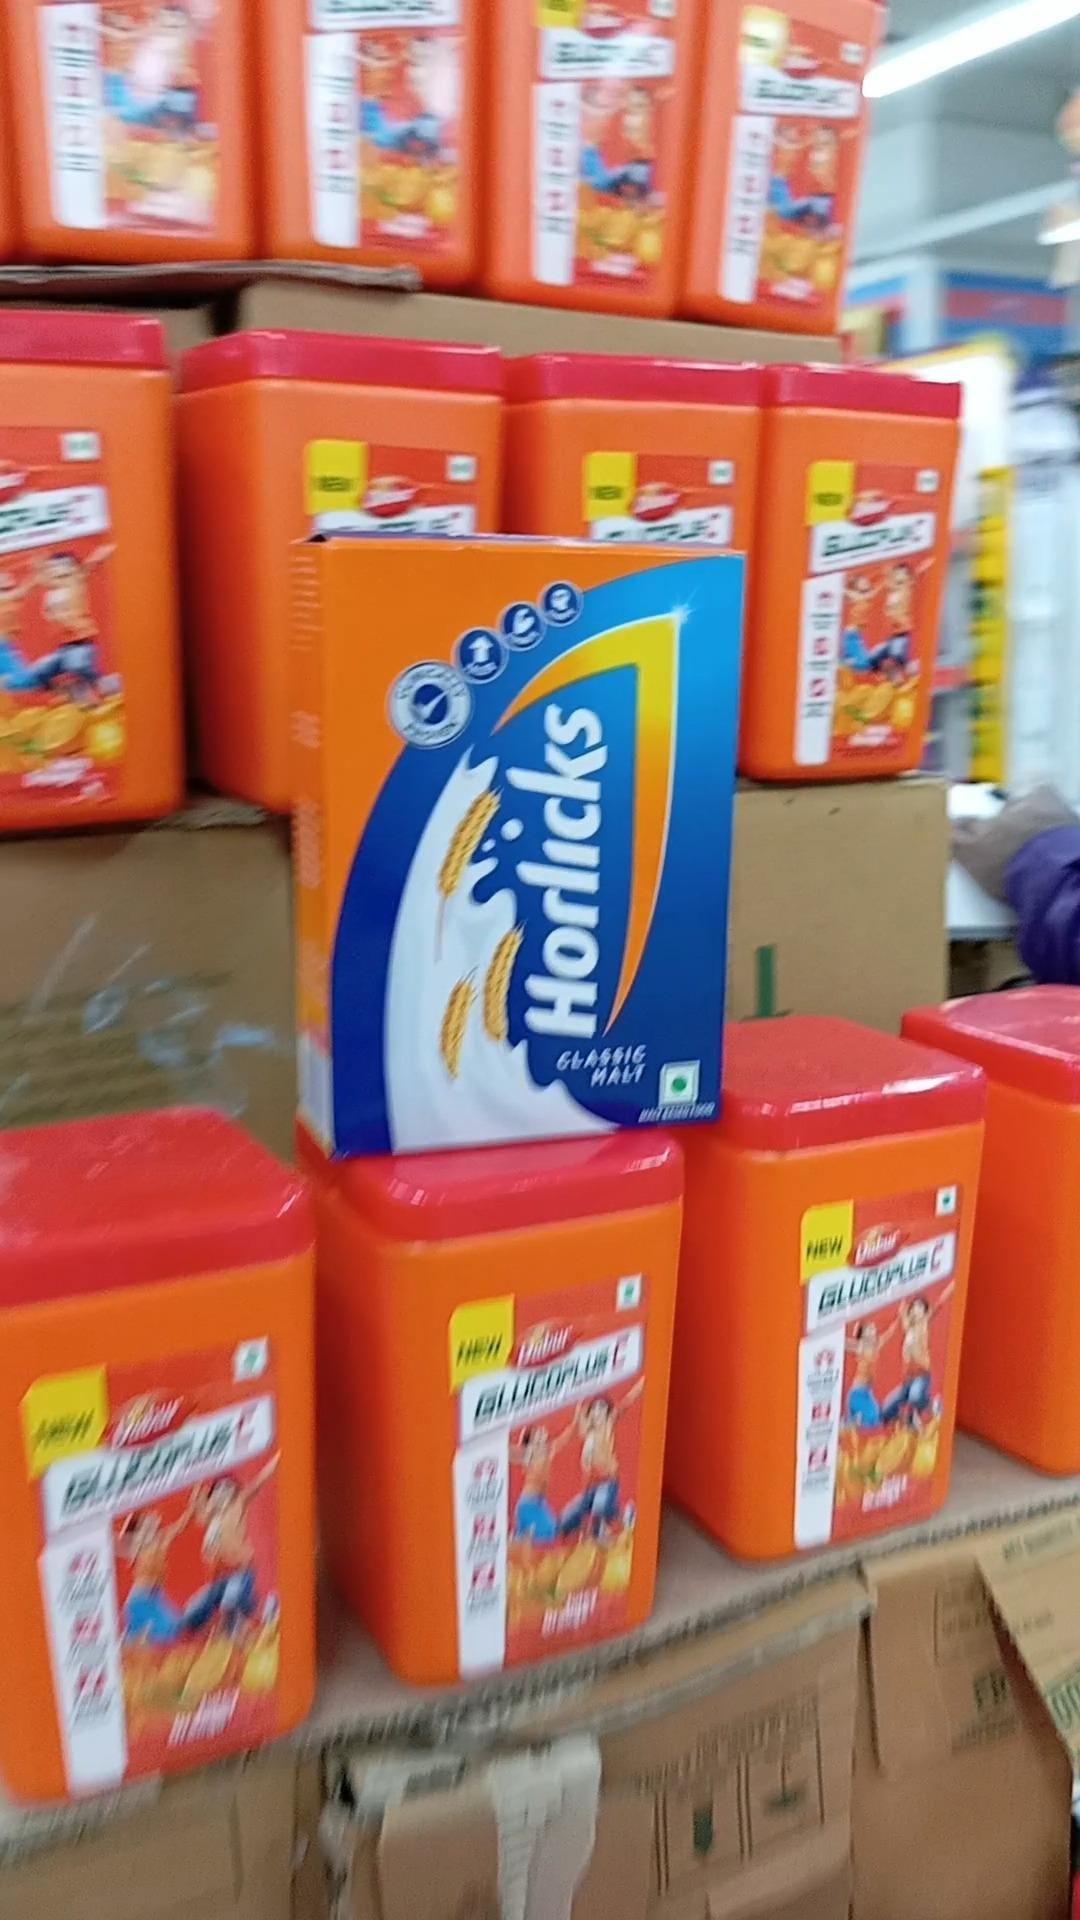HORLICK_CLASSIC_MALT_500_G_PACK: (332, 542, 744, 1163)
